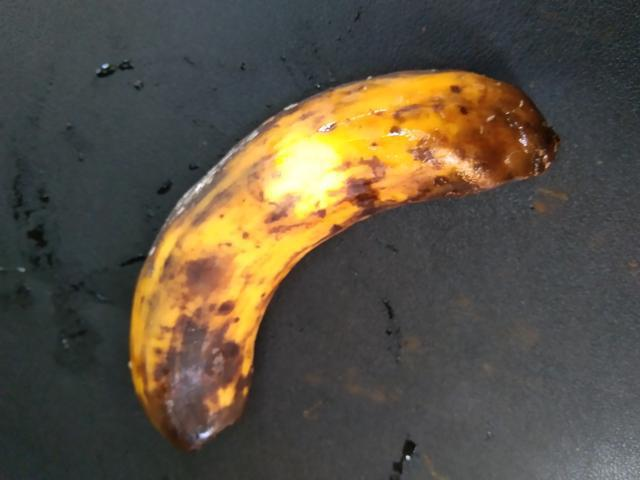rotten: (113, 59, 561, 474)
